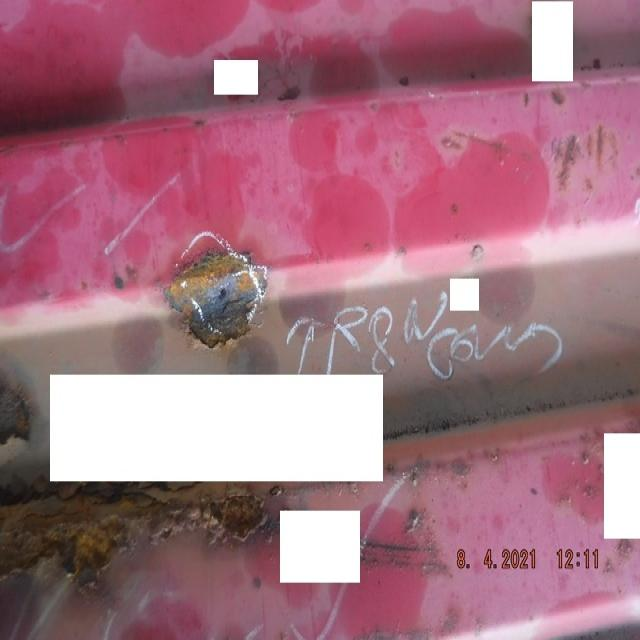rust: (2, 487, 274, 599), (162, 246, 270, 352), (2, 379, 34, 451)
